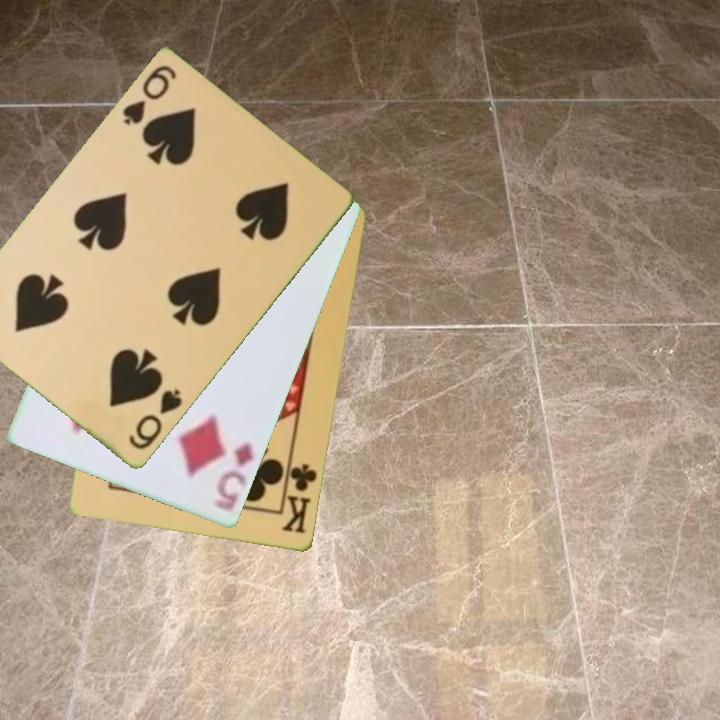5d: (210, 438, 257, 515)
6s: (119, 62, 180, 129), (125, 386, 185, 454)
Kc: (278, 455, 321, 537)
